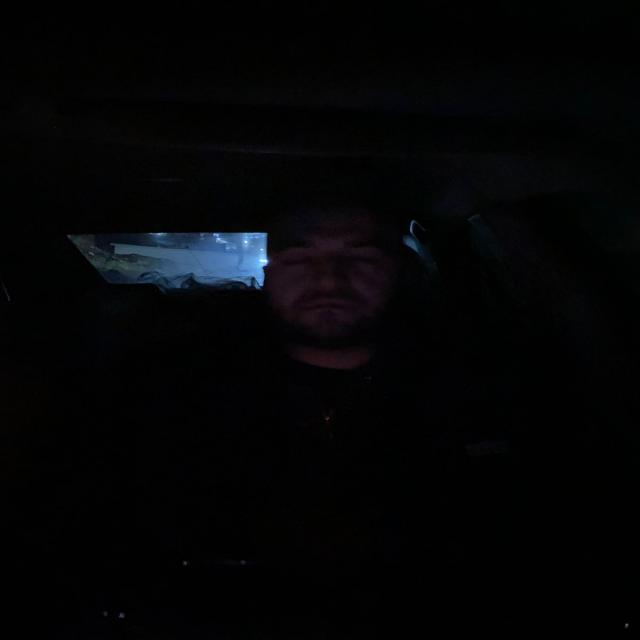drowsy: (262, 207, 409, 349)
